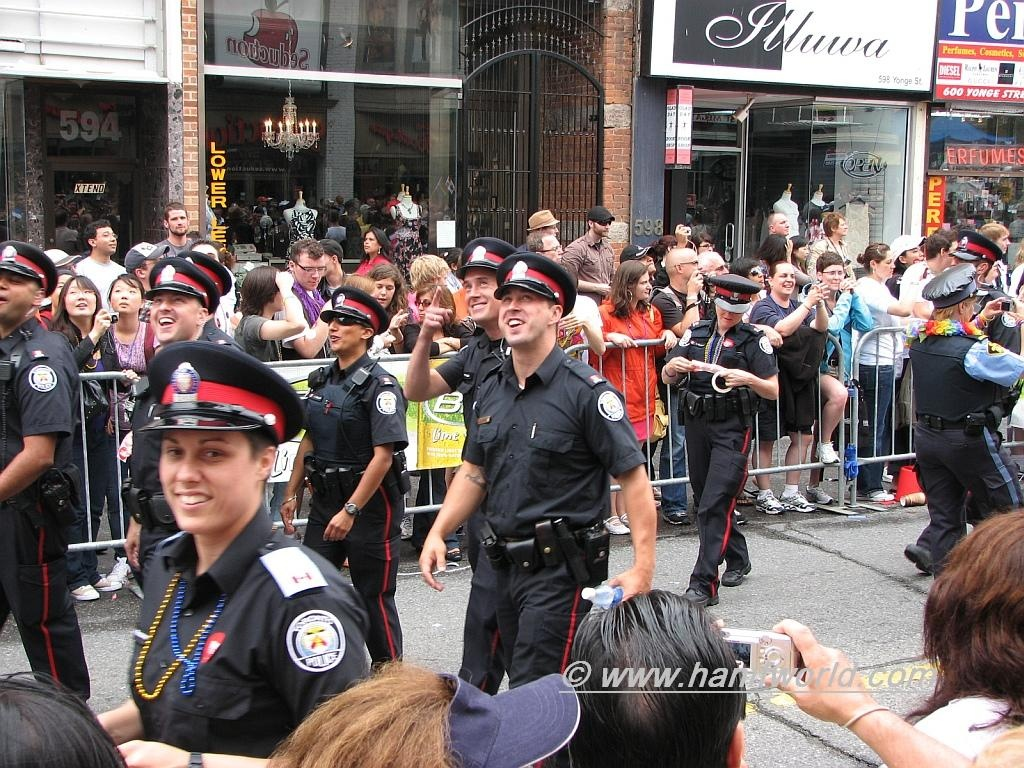human_face: (158, 428, 258, 532), (498, 289, 548, 345), (149, 292, 197, 342), (460, 266, 498, 324), (0, 268, 36, 324), (325, 312, 363, 354), (62, 281, 96, 315), (296, 252, 324, 290), (110, 280, 138, 312), (144, 252, 168, 288), (714, 300, 742, 328), (194, 245, 218, 275), (370, 278, 392, 310), (414, 292, 436, 324), (272, 278, 292, 312), (948, 254, 974, 280), (681, 252, 703, 280), (708, 257, 730, 285), (774, 265, 794, 295), (634, 268, 652, 300), (542, 236, 562, 264), (823, 264, 843, 292), (54, 276, 72, 306), (956, 294, 974, 324), (95, 224, 115, 250), (166, 210, 186, 234), (748, 263, 766, 289), (944, 241, 962, 267), (878, 252, 896, 278), (312, 254, 332, 276), (635, 253, 657, 273), (906, 246, 924, 266), (435, 269, 449, 293), (593, 219, 611, 237), (774, 214, 790, 234), (996, 234, 1012, 254), (796, 242, 810, 262), (698, 238, 714, 255), (362, 233, 374, 255), (834, 219, 848, 237), (544, 224, 560, 238), (958, 237, 968, 254), (950, 193, 956, 203), (968, 202, 972, 212), (72, 216, 76, 224), (958, 200, 962, 208)
